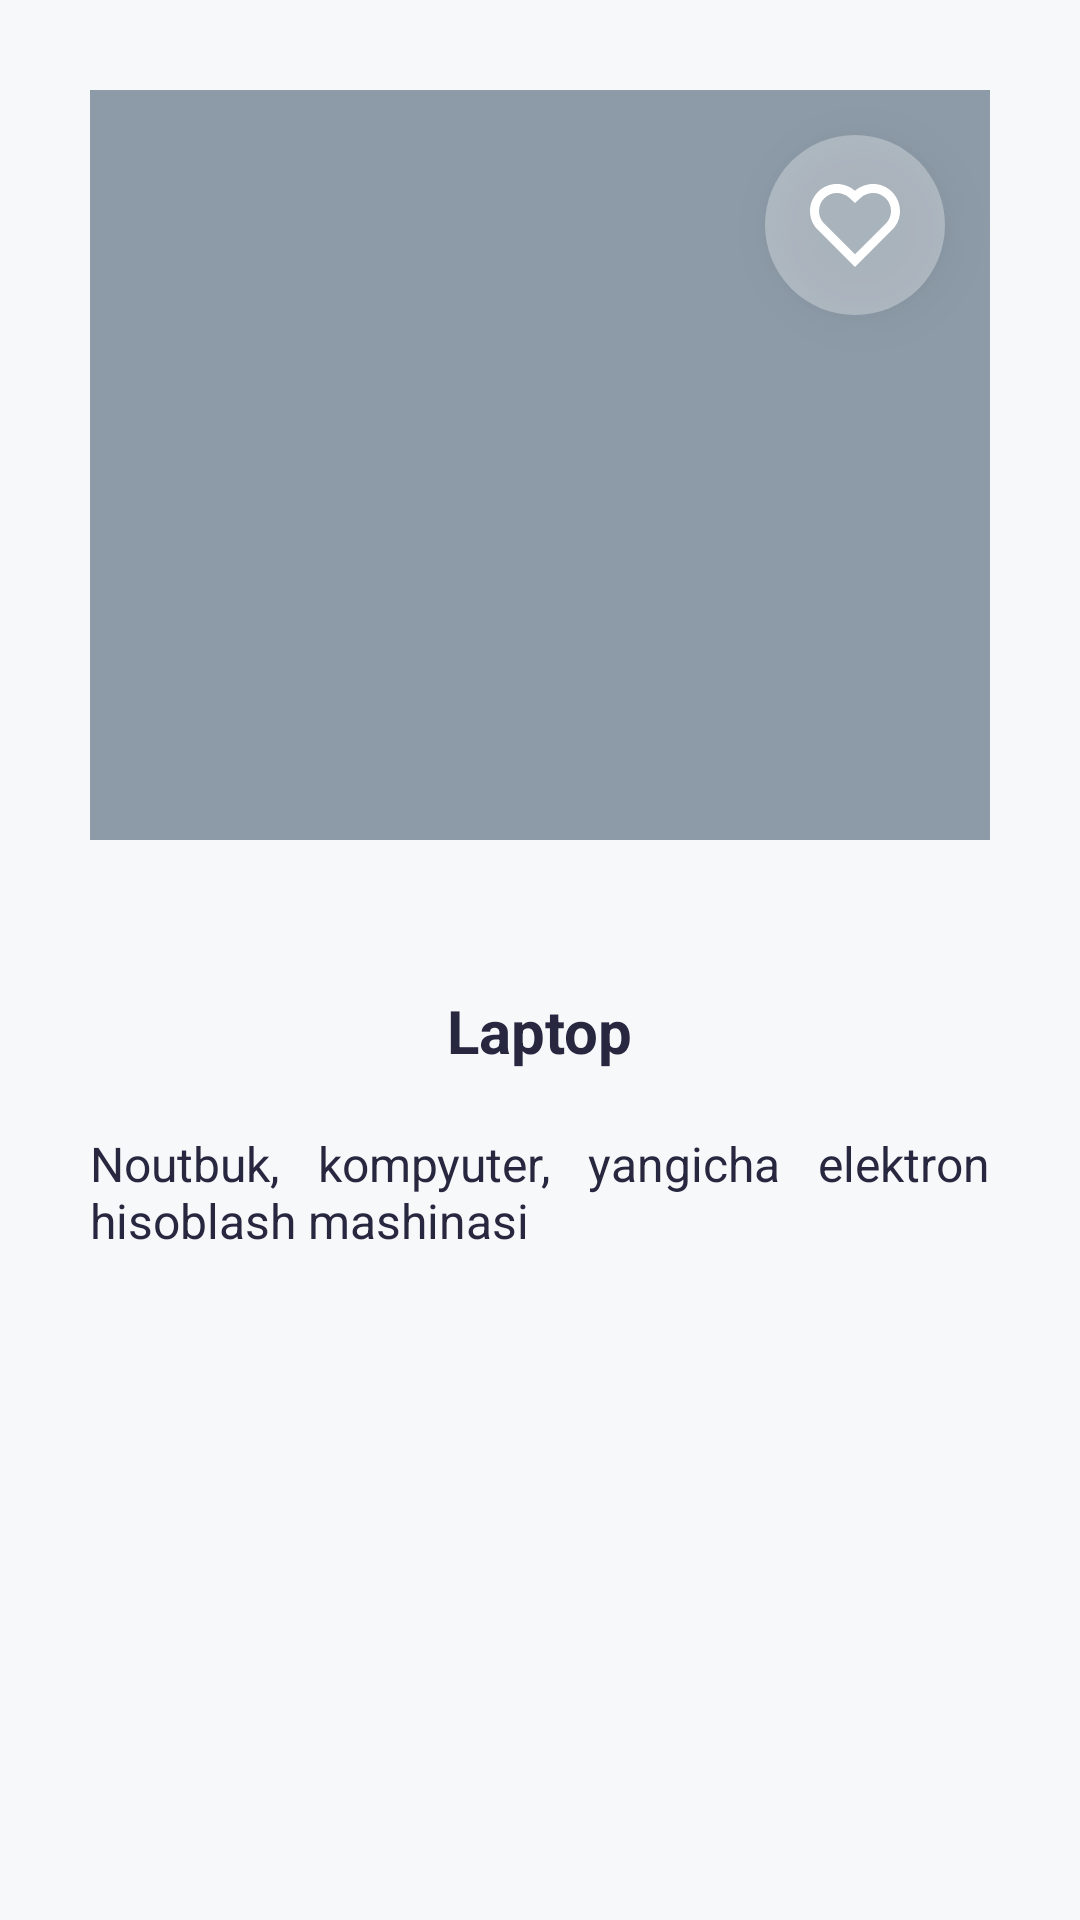

Locate icon controls on the screen. Image size 1080x1920, boxes as box(x1, y1, x2, y2).
like empty: box(765, 135, 945, 315)
